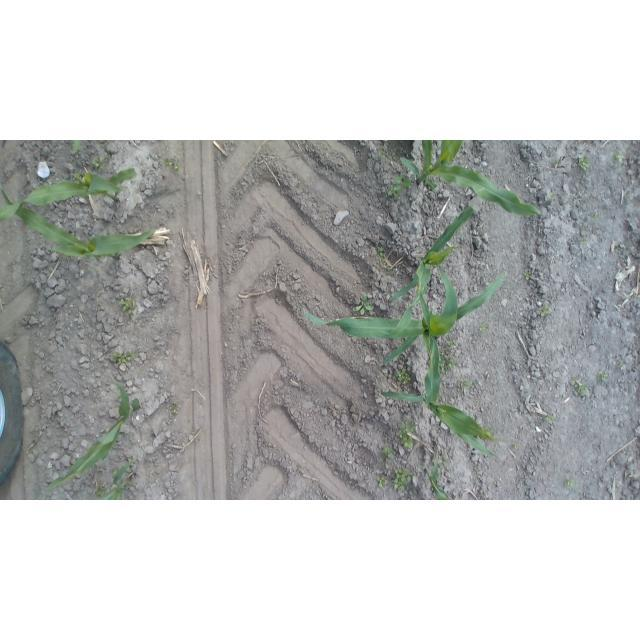Maize: (382, 286, 505, 458), (301, 273, 502, 365), (31, 378, 142, 500), (1, 182, 156, 262), (386, 207, 474, 340), (401, 141, 544, 220), (0, 166, 138, 222), (95, 456, 136, 500), (426, 452, 453, 501), (72, 140, 101, 157)
Weeds: (388, 174, 412, 199), (396, 419, 416, 449), (391, 468, 414, 490), (354, 293, 375, 315), (439, 353, 458, 373), (112, 350, 137, 365), (119, 298, 137, 315), (571, 378, 588, 394), (396, 368, 411, 384), (91, 156, 106, 171), (95, 483, 108, 498), (578, 156, 591, 171), (460, 377, 472, 391), (382, 445, 394, 459), (611, 150, 624, 162), (564, 476, 576, 489), (540, 304, 550, 316), (377, 476, 387, 488), (598, 372, 608, 382), (171, 163, 180, 173), (524, 269, 532, 280), (376, 246, 384, 257), (378, 149, 386, 160), (76, 171, 85, 180), (545, 414, 555, 422), (387, 265, 395, 275), (163, 158, 173, 166), (479, 324, 487, 333), (549, 192, 557, 200), (448, 340, 455, 349), (484, 425, 493, 432), (391, 152, 398, 160), (104, 151, 111, 158), (113, 468, 120, 475), (514, 443, 521, 450), (592, 214, 598, 222), (619, 364, 625, 371), (379, 258, 385, 265), (171, 408, 178, 414), (581, 237, 587, 243), (444, 459, 449, 466), (474, 465, 479, 471), (385, 464, 389, 469), (379, 458, 384, 462), (382, 140, 388, 142)
